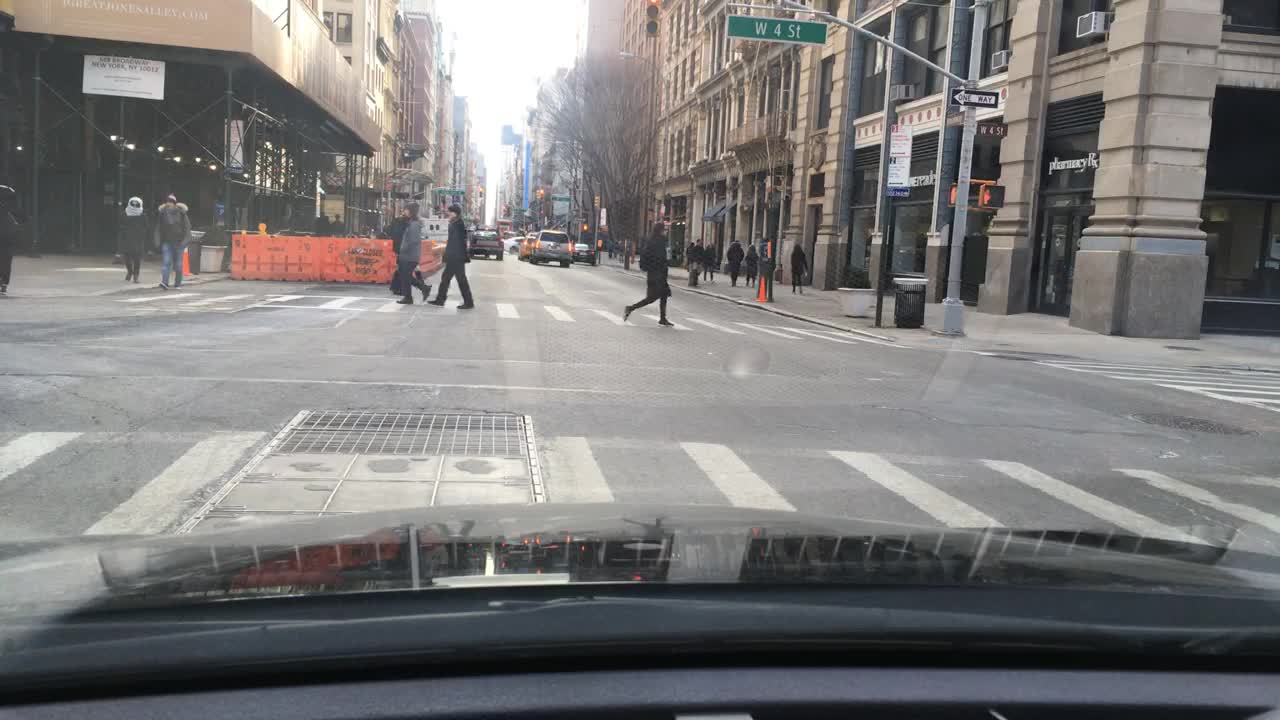bus: (418, 213, 446, 239), (495, 217, 512, 235)
car: (531, 228, 573, 266), (468, 228, 503, 261), (570, 241, 598, 261), (520, 228, 537, 260), (504, 235, 518, 253), (479, 222, 493, 232), (465, 222, 473, 238)
person: (622, 219, 674, 326), (428, 203, 473, 308), (152, 191, 192, 288), (393, 200, 429, 304), (384, 202, 423, 293), (0, 181, 20, 301), (120, 194, 148, 279), (757, 230, 779, 297), (787, 241, 807, 294), (725, 238, 744, 288), (744, 243, 760, 285), (703, 241, 716, 285), (311, 210, 330, 236), (692, 238, 700, 280), (332, 213, 346, 235), (683, 241, 694, 266), (671, 238, 677, 269), (616, 235, 622, 260)
traffic light: (644, 0, 661, 36), (979, 183, 1004, 206), (948, 181, 957, 206), (537, 184, 545, 202), (476, 184, 484, 199), (578, 221, 587, 233), (591, 194, 600, 206)
traffic sign: (722, 15, 827, 45), (946, 87, 997, 106), (973, 120, 1008, 141), (435, 188, 464, 197), (216, 204, 226, 218), (553, 194, 569, 200)
